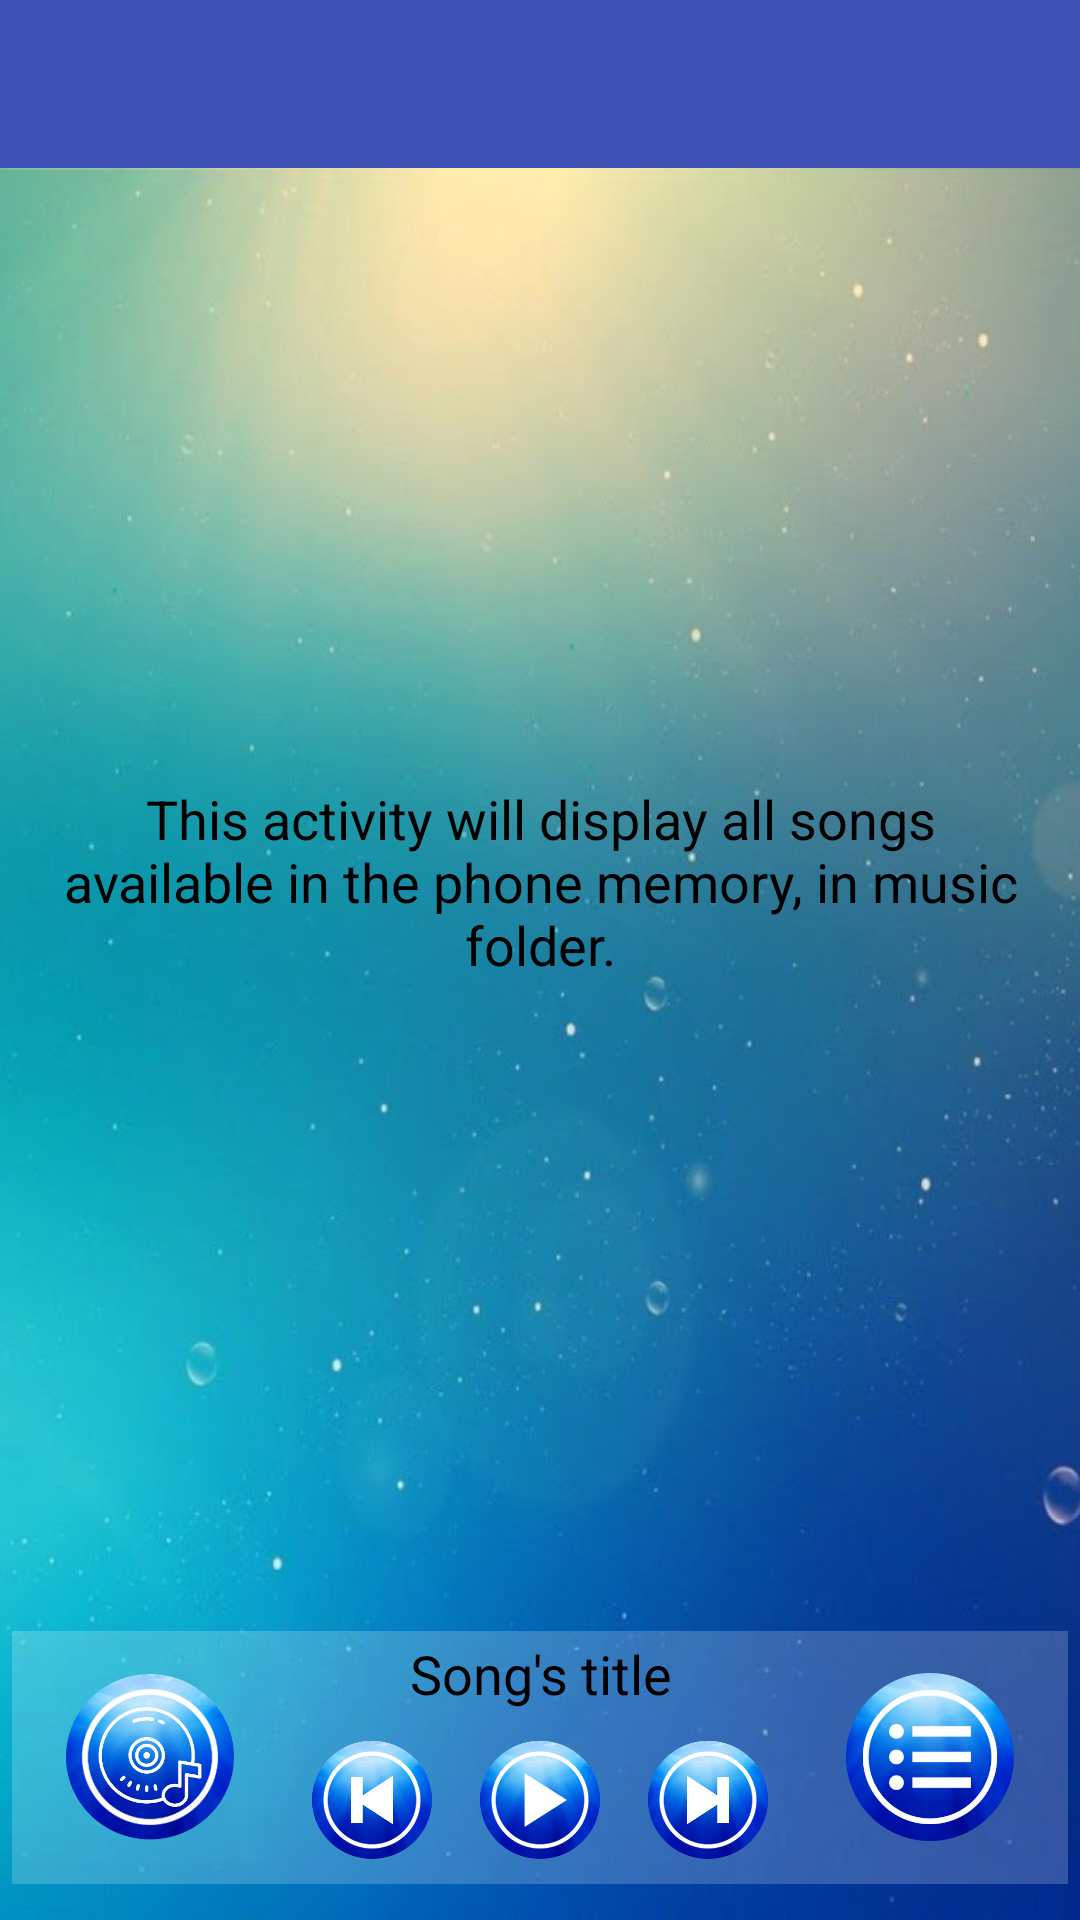

Icons on this 1080*1920 Android screen, each with its box as BBox(x1, y1, x2, y2):
play: BBox(480, 1741, 600, 1859)
Player bar icon: BBox(12, 1673, 244, 1840)
previous: BBox(303, 1720, 450, 1859)
